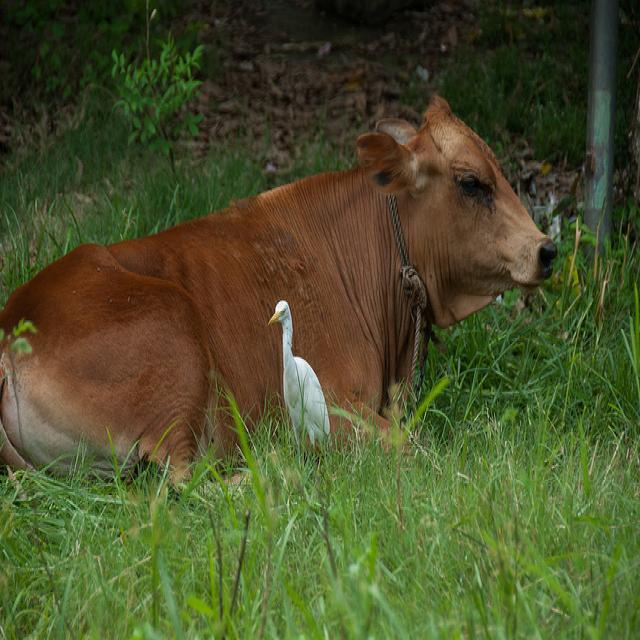cow: (0, 90, 556, 496)
